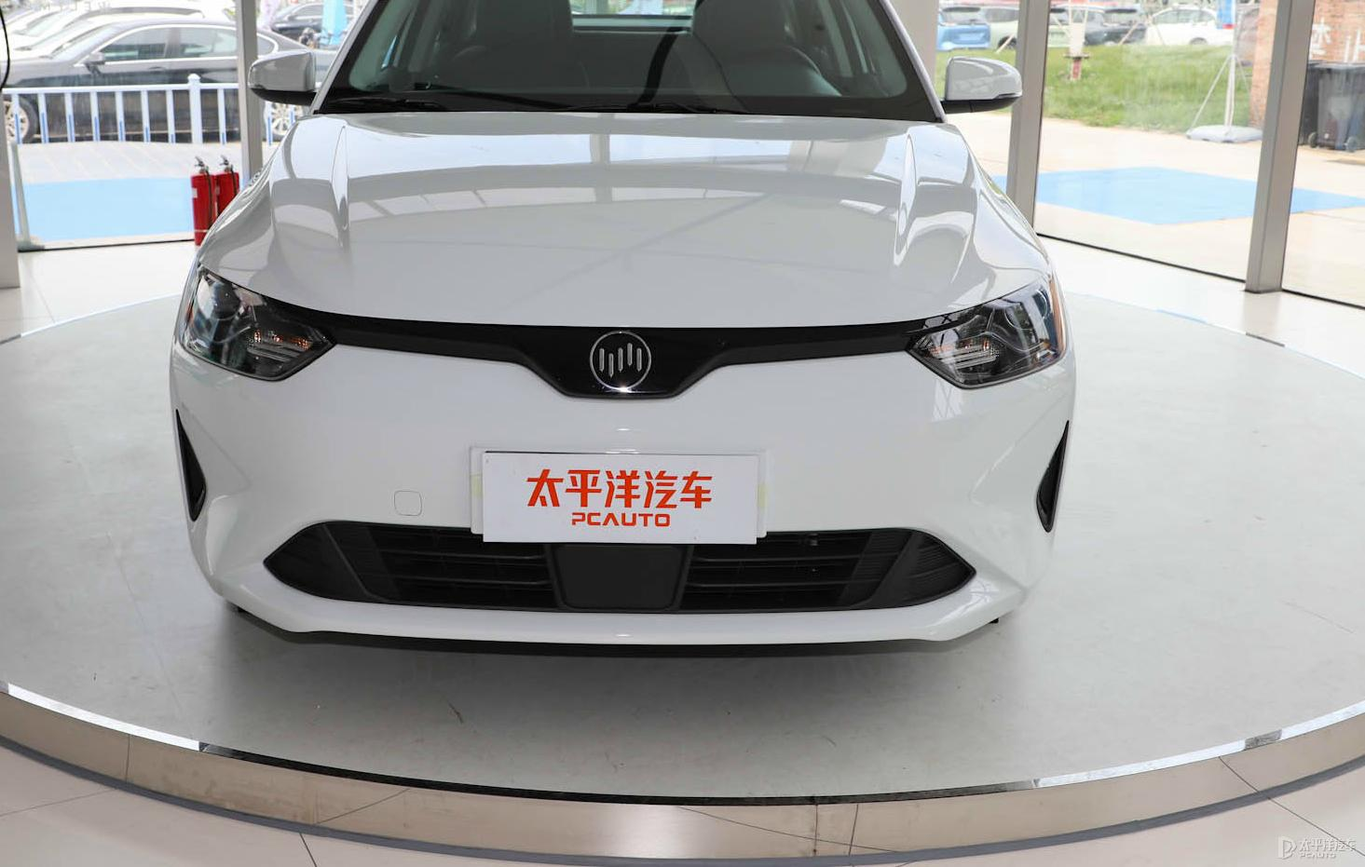WELTMEISTER: (592, 332, 650, 388)
